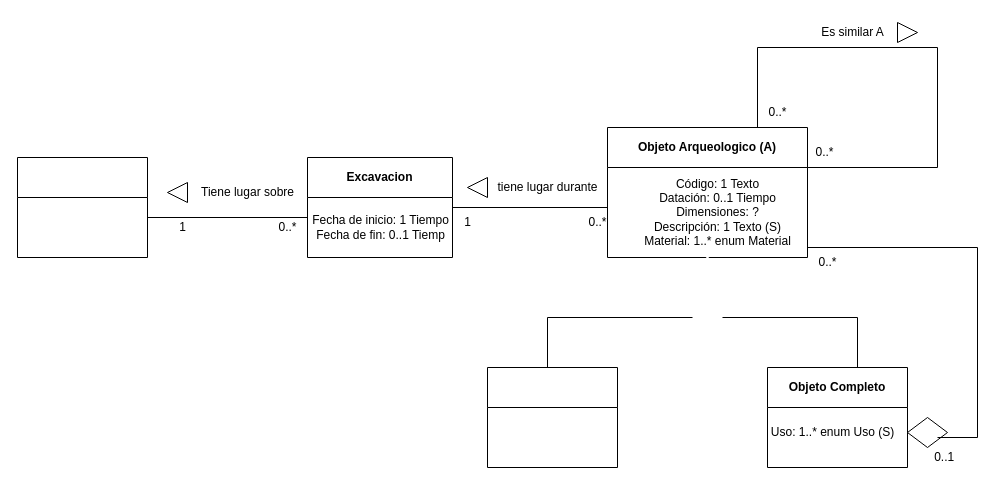
Image size: 996x489. Some labels were removed from this diagram. The shapes that lost their labels are listed below. From the top down, each one's centre as x and y in pixels, then its label:
At point 82,207: "Sitio arqueologico".
At point 552,417: "Fragmento de Objeto".
